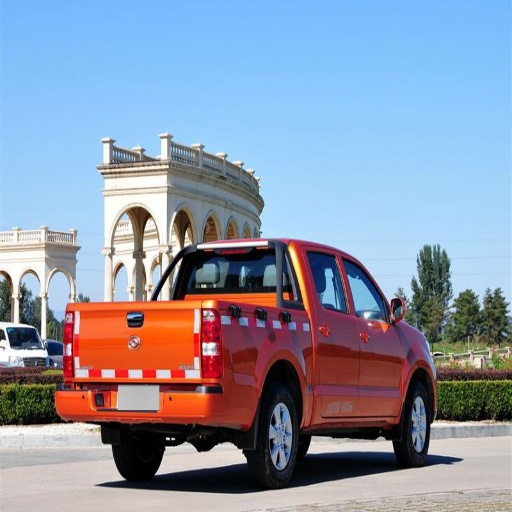_background_: (91, 386, 157, 419)
back_bumper: (171, 247, 292, 296)
back_left_light: (301, 246, 359, 415)
front_left_light: (341, 254, 402, 415)
tailgate: (79, 297, 307, 425)
trunk: (255, 384, 304, 486), (108, 428, 163, 482), (396, 378, 430, 465)
